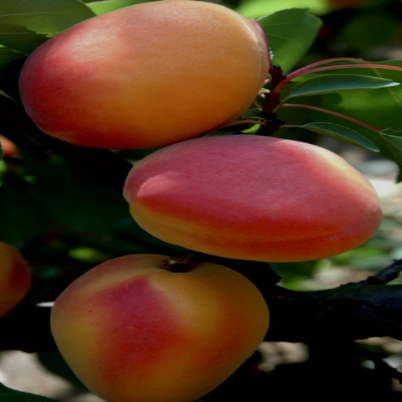mango: (3, 0, 286, 153), (33, 238, 287, 401), (120, 120, 383, 272)
